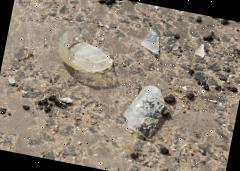glass: (55, 23, 119, 77)
